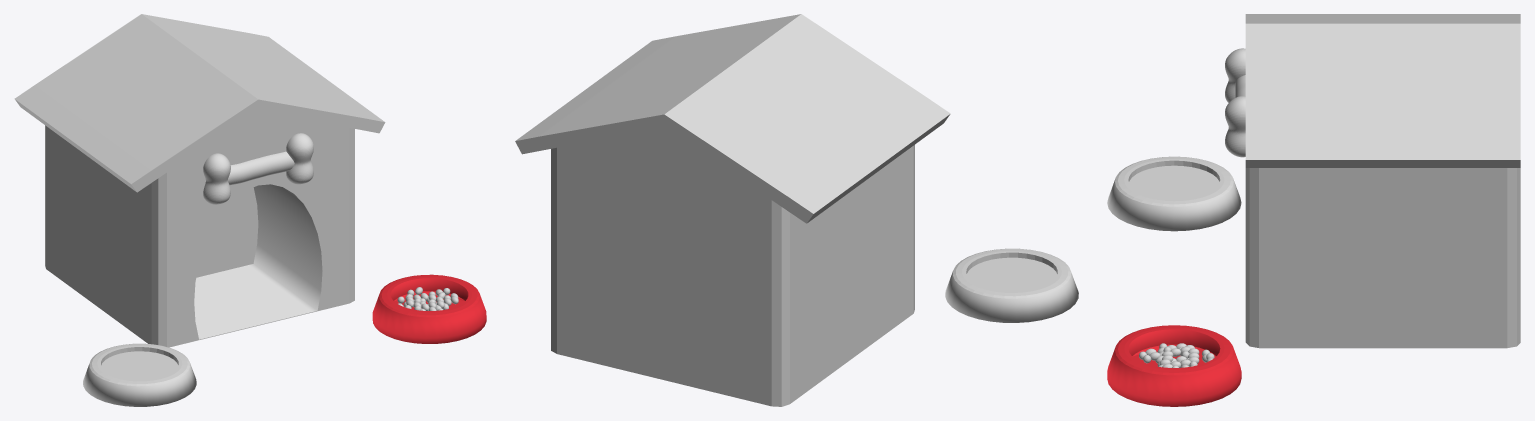
File: doghouse.fbx
3 renders of one model, left to right at view 1: azimuth 30°, elevation 25°; view 2: azimuth 150°, elevation 25°; view 3: azimuth 270°, elevation 25°, orthographic. The views are drawn at different scales.
Visible parts, largest first — view 1: DogHouse, Roof, FoodBowl, WaterBowl, Sphere.001, Water, Sphere.040; view 2: DogHouse, Roof, WaterBowl, Water; view 3: DogHouse, Roof, FoodBowl, WaterBowl, Water, Sphere.001, Sphere.040.
Part boxes in pixels (bbox=[...]): DogHouse: bbox=[45, 110, 354, 347]; Roof: bbox=[14, 14, 385, 192]; FoodBowl: bbox=[372, 274, 486, 343]; WaterBowl: bbox=[83, 343, 196, 406]; Sphere.001: bbox=[203, 133, 313, 204]; Water: bbox=[101, 351, 178, 379]; Sphere.040: bbox=[397, 287, 458, 310]; DogHouse: bbox=[551, 127, 914, 406]; Roof: bbox=[515, 14, 950, 223]; WaterBowl: bbox=[945, 248, 1078, 322]; Water: bbox=[966, 257, 1057, 291]; DogHouse: bbox=[1245, 168, 1520, 348]; Roof: bbox=[1245, 14, 1520, 167]; FoodBowl: bbox=[1107, 325, 1241, 406]; WaterBowl: bbox=[1107, 156, 1241, 231]; Water: bbox=[1129, 165, 1219, 199]; Sphere.001: bbox=[1225, 48, 1245, 157]; Sphere.040: bbox=[1139, 343, 1214, 367].
Size of the model in its own units: 384 by 220 by 301.
